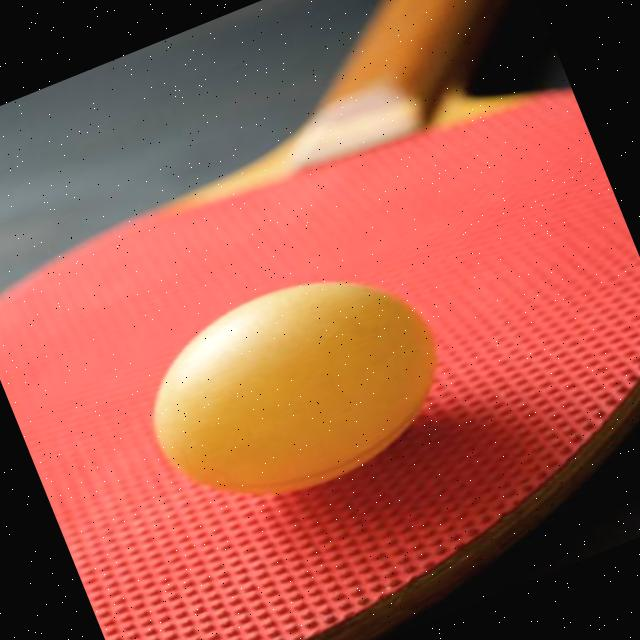ping-pong-ball: (120, 245, 462, 532)
